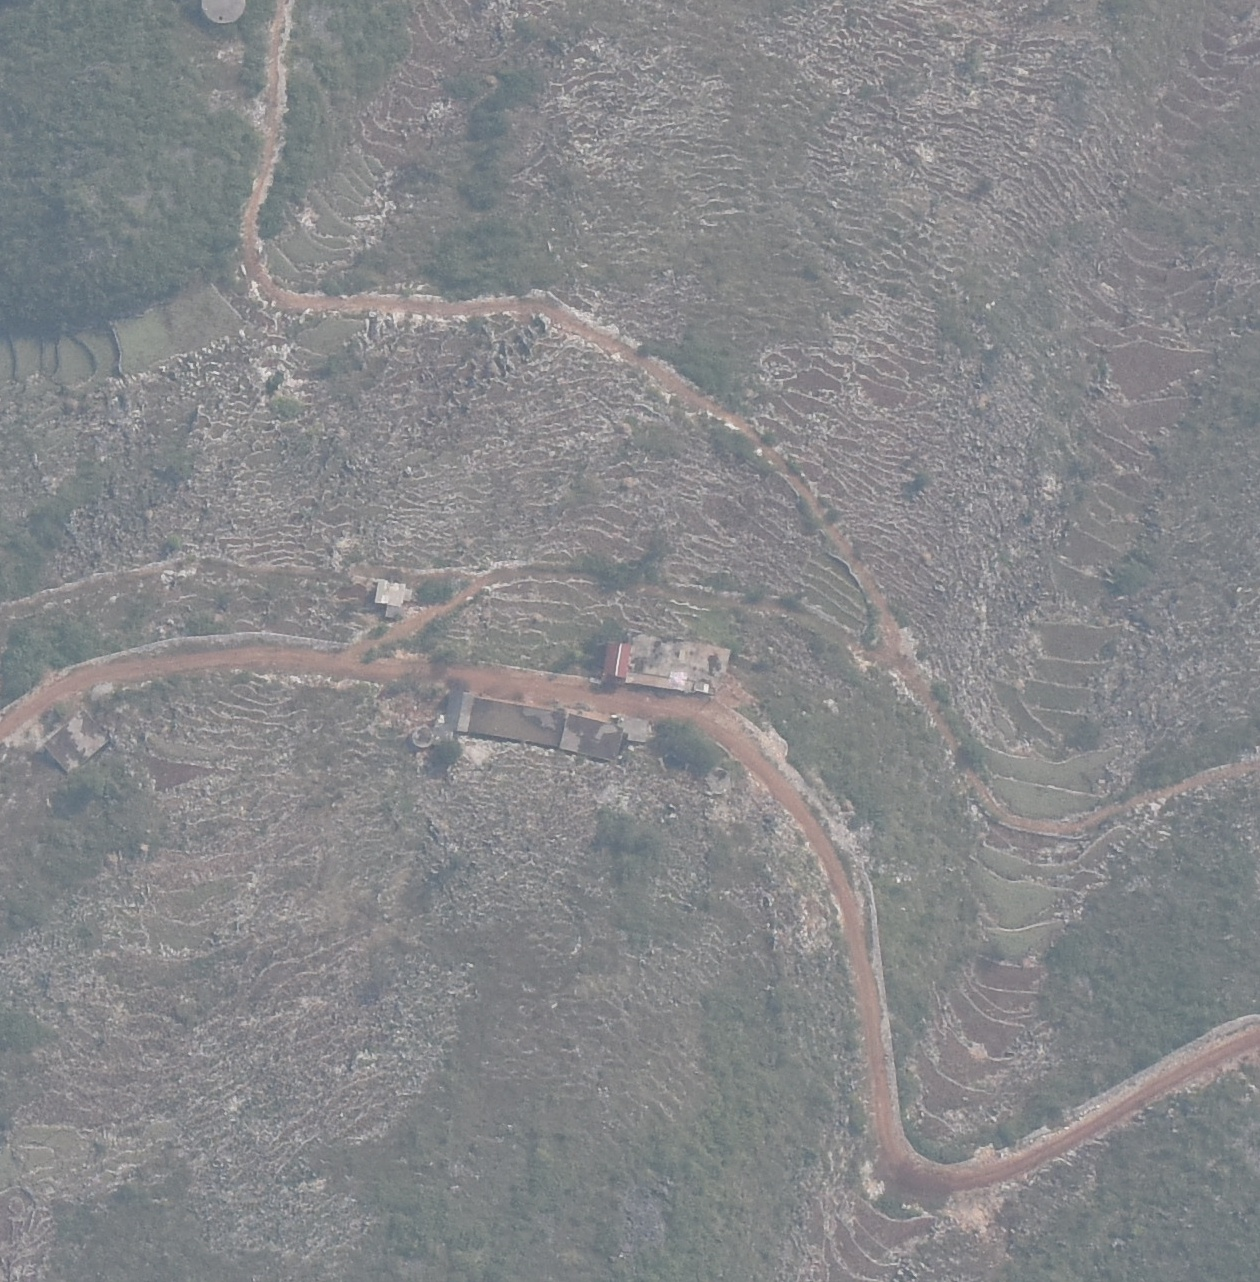building: (442, 688, 630, 760), (40, 707, 117, 774), (368, 579, 425, 620), (630, 669, 719, 692), (602, 632, 639, 681)
well: (196, 1, 249, 27), (705, 765, 732, 794), (411, 726, 437, 749)
